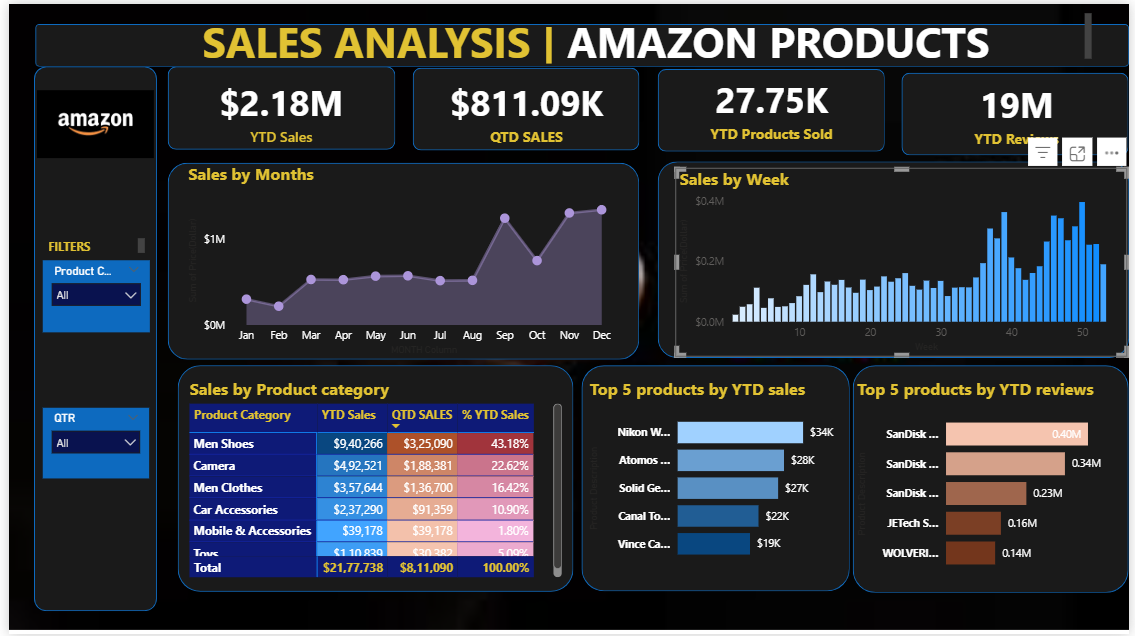

What the dashboard file says about the page in this screenshot:
{"tool":"powerbi","page":{"name":"Page 1","canvas":[1280,720],"ordinal":0},"visuals":[{"type":"shape","box":[30,23.3,1250,48.9],"z":0},{"type":"textbox","box":[216,6.1,1027,67.5],"z":1000},{"type":"shape","box":[29.2,71.9,140.4,622.5],"z":2000},{"type":"shape","box":[180.9,71.9,260,95],"z":3000,"group":"g1"},{"type":"shape","box":[1020.2,78.7,259.6,94.4],"z":3000},{"type":"card","fields":{"Values":["Amazon_Data.YTD Sales"]},"box":[200,73,222.5,100],"z":4000,"group":"g1"},{"type":"group","id":"g1","title":"Group 1","box":[180.9,71.9,1062.9,101.1],"z":4000},{"type":"shape","box":[461.1,73.3,258.9,94.4],"z":5000,"group":"g1"},{"type":"shape","box":[181.2,181.2,538.8,225],"z":5000},{"type":"shape","box":[740.6,75.3,259.6,94.4],"z":6000,"group":"g1"},{"type":"areaChart","title":"Sales by Months","fields":{"Category":["Date Table.MONTH Column"],"Y":["Amazon_Data.Price(Dollar)"]},"box":[200,180.9,497.3,225.5],"z":6000},{"type":"shape","box":[741.1,180.4,538.7,224.5],"z":7000},{"type":"card","fields":{"Values":["Amazon_Data.YTD Products Sold"]},"box":[777.5,73.7,186.2,93.8],"z":8000,"group":"g1"},{"type":"columnChart","title":"Sales by Week","fields":{"Category":["Date Table.Week"],"Y":["Amazon_Data.Price(Dollar)"]},"box":[760.7,186.5,517.8,216],"z":8000},{"type":"card","fields":{"Values":["Amazon_Data.QTD SALES"]},"box":[497.5,76.2,186.2,93.8],"z":9000,"group":"g1"},{"type":"shape","box":[193.3,413.3,452.2,258.9],"z":9000},{"type":"card","fields":{"Values":["Amazon_Data.YTD Reviews"]},"box":[1057.5,78.7,186.2,93.8],"z":10000,"group":"g1"},{"type":"pivotTable","title":"Sales by Product category ","fields":{"Rows":["Amazon_Data.Product Category"],"Values":["Amazon_Data.YTD Sales1","Amazon_Data.QTD SALES","Amazon_Data.YTD Sales"]},"box":[201.7,426.7,435,233.3],"z":10000},{"type":"shape","box":[655,413.3,306.7,258.3],"z":11000},{"type":"shape","box":[964.4,413.5,315.3,260.1],"z":12000},{"type":"clusteredBarChart","title":"Top 5 products by YTD sales","fields":{"Category":["Amazon_Data.Product Description"],"Y":["Amazon_Data.YTD Sales"]},"box":[658.9,427,299.4,220.9],"z":13000},{"type":"clusteredBarChart","title":"Top 5 products by YTD reviews","fields":{"Category":["Amazon_Data.Product Description"],"Y":["Amazon_Data.YTD Reviews"]},"box":[964.4,427,305.5,233.1],"z":14000},{"type":"slicer","fields":{"Values":["Amazon_Data.Product Category"]},"box":[38.9,293.3,122.2,82.2],"z":15000},{"type":"slicer","fields":{"Values":["Date Table.QTR"]},"box":[39.3,461.4,121.5,81],"z":16000},{"type":"image","box":[27.8,65.6,143.3,143.3],"z":17000},{"type":"textbox","box":[40,262.2,120,32.2],"z":18000}]}

Visuals, with their boxes in screenshot pixels (x1, y1, x2, y2), scaled from the page's 1280x720 canvas onto the 1135x636 screenshot:
shape: {"x1": 27, "y1": 21, "x2": 1134, "y2": 64}
textbox: {"x1": 192, "y1": 5, "x2": 1102, "y2": 65}
shape: {"x1": 26, "y1": 64, "x2": 150, "y2": 613}
shape: {"x1": 160, "y1": 64, "x2": 391, "y2": 147}
shape: {"x1": 905, "y1": 70, "x2": 1134, "y2": 153}
card - Amazon_Data.YTD Sales: {"x1": 177, "y1": 64, "x2": 375, "y2": 153}
"Group 1" group: {"x1": 160, "y1": 64, "x2": 1103, "y2": 153}
shape: {"x1": 409, "y1": 65, "x2": 638, "y2": 148}
shape: {"x1": 161, "y1": 160, "x2": 638, "y2": 359}
shape: {"x1": 657, "y1": 67, "x2": 887, "y2": 150}
"Sales by Months" areaChart: {"x1": 177, "y1": 160, "x2": 618, "y2": 359}
shape: {"x1": 657, "y1": 159, "x2": 1134, "y2": 358}
card - Amazon_Data.YTD Products Sold: {"x1": 689, "y1": 65, "x2": 855, "y2": 148}
"Sales by Week" columnChart: {"x1": 675, "y1": 165, "x2": 1134, "y2": 356}
card - Amazon_Data.QTD SALES: {"x1": 441, "y1": 67, "x2": 606, "y2": 150}
shape: {"x1": 171, "y1": 365, "x2": 572, "y2": 594}
card - Amazon_Data.YTD Reviews: {"x1": 938, "y1": 70, "x2": 1103, "y2": 152}
"Sales by Product category " pivotTable: {"x1": 179, "y1": 377, "x2": 565, "y2": 583}
shape: {"x1": 581, "y1": 365, "x2": 853, "y2": 593}
shape: {"x1": 855, "y1": 365, "x2": 1134, "y2": 595}
"Top 5 products by YTD sales" clusteredBarChart: {"x1": 584, "y1": 377, "x2": 850, "y2": 572}
"Top 5 products by YTD reviews" clusteredBarChart: {"x1": 855, "y1": 377, "x2": 1126, "y2": 583}
slicer - Amazon_Data.Product Category: {"x1": 34, "y1": 259, "x2": 143, "y2": 332}
slicer - Date Table.QTR: {"x1": 35, "y1": 408, "x2": 143, "y2": 479}
image: {"x1": 25, "y1": 58, "x2": 152, "y2": 185}
textbox: {"x1": 35, "y1": 232, "x2": 142, "y2": 260}
